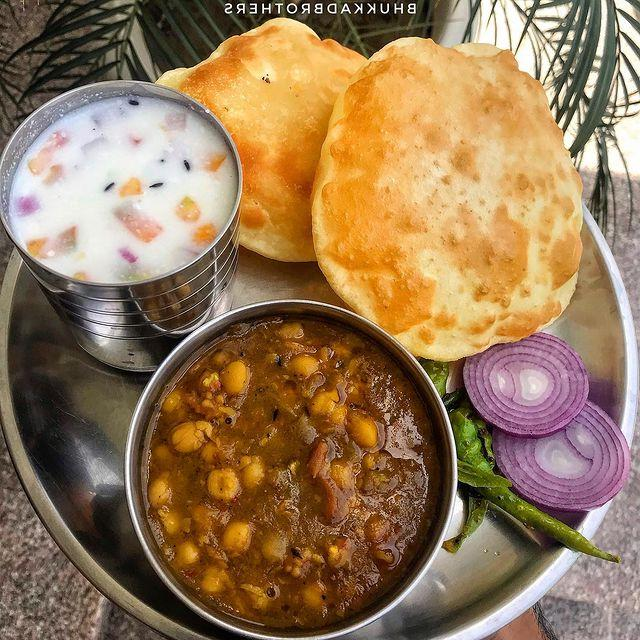Chole: (152, 354, 369, 608)
